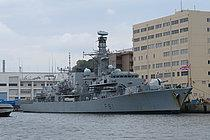MIL_Ship: (17, 29, 194, 114)
